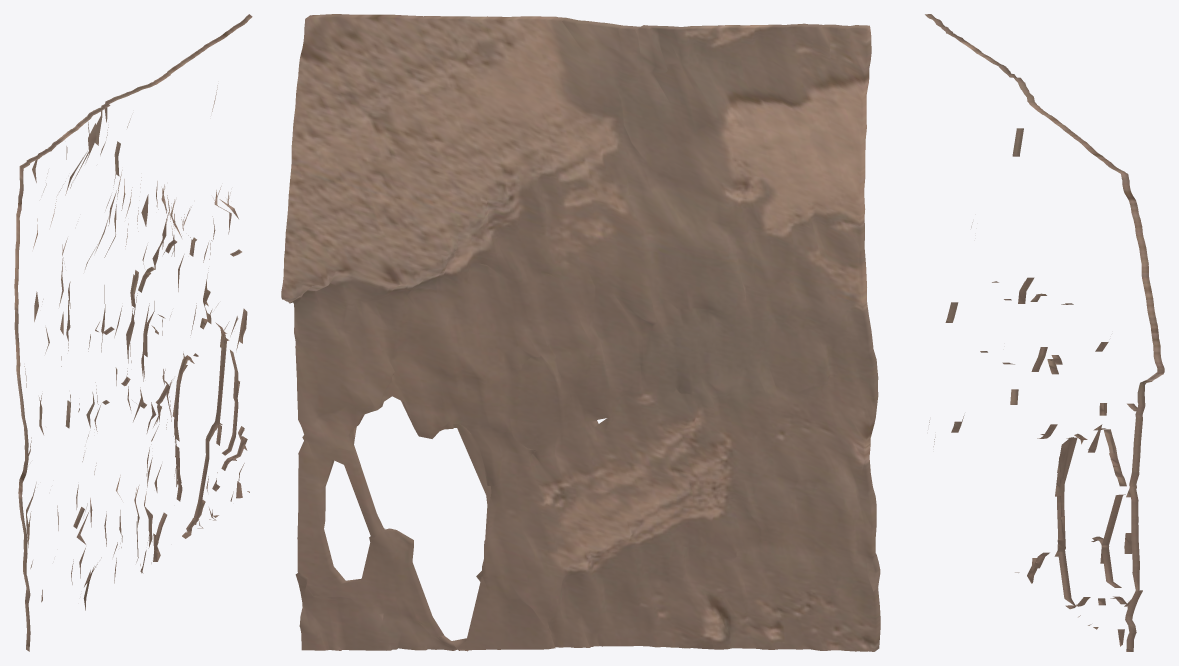
The picture shows the model from 3 angles, left to right: view 1: azimuth 30°, elevation 25°; view 2: azimuth 150°, elevation 25°; view 3: azimuth 270°, elevation 25°; orthographic projection. The views are drawn at different scales.
Size of the model in its own units: 0.5223 by 0.7275 by 0.3524.
Materials: 1 (1 with a texture image).
